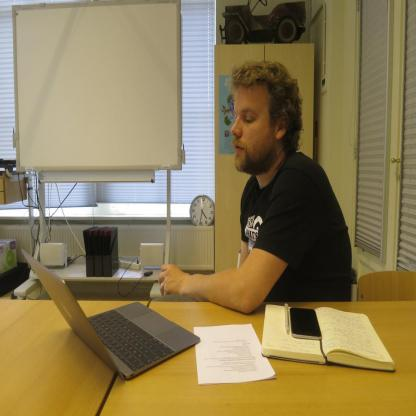board: (41, 263, 199, 385)
